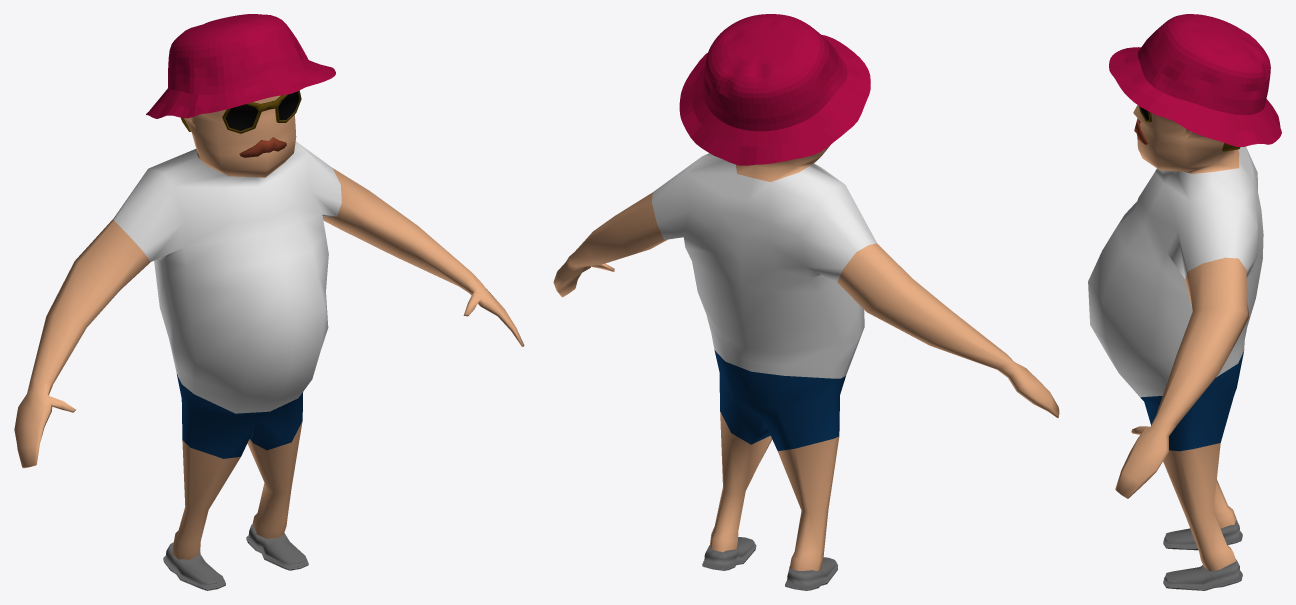
The model's file is characters.fbx.
3 renders of one model, left to right at view 1: azimuth 30°, elevation 25°; view 2: azimuth 150°, elevation 25°; view 3: azimuth 270°, elevation 25°, orthographic.
Parts seen in each view (by area): view 1: body, l_arm, hat, r_arm, l_leg, r_leg, glasses, l_foot, r_foot; view 2: body, hat, l_arm, l_leg, r_arm, r_leg, r_foot, l_foot; view 3: body, r_arm, hat, r_leg, r_foot, l_foot, l_leg.
Part boxes in pixels (bbox=[...]): body: bbox=[148, 95, 328, 418]; l_arm: bbox=[14, 168, 184, 468]; hat: bbox=[146, 14, 335, 118]; r_arm: bbox=[297, 142, 524, 346]; l_leg: bbox=[172, 399, 265, 559]; r_leg: bbox=[247, 392, 302, 538]; glasses: bbox=[222, 90, 301, 133]; l_foot: bbox=[163, 542, 225, 590]; r_foot: bbox=[246, 524, 308, 570]; body: bbox=[683, 145, 864, 409]; hat: bbox=[679, 14, 870, 165]; l_arm: bbox=[800, 185, 1059, 417]; l_leg: bbox=[755, 395, 839, 570]; r_arm: bbox=[553, 157, 700, 297]; r_leg: bbox=[710, 373, 772, 552]; r_foot: bbox=[702, 537, 756, 570]; l_foot: bbox=[785, 557, 837, 590]; body: bbox=[1088, 105, 1263, 409]; r_arm: bbox=[1115, 195, 1257, 498]; hat: bbox=[1109, 14, 1281, 146]; r_leg: bbox=[1144, 396, 1236, 571]; r_foot: bbox=[1163, 559, 1242, 590]; l_foot: bbox=[1163, 520, 1242, 550]; l_leg: bbox=[1213, 479, 1236, 528].
Size of the model in its own units: 16.07 by 16.83 by 5.47.
